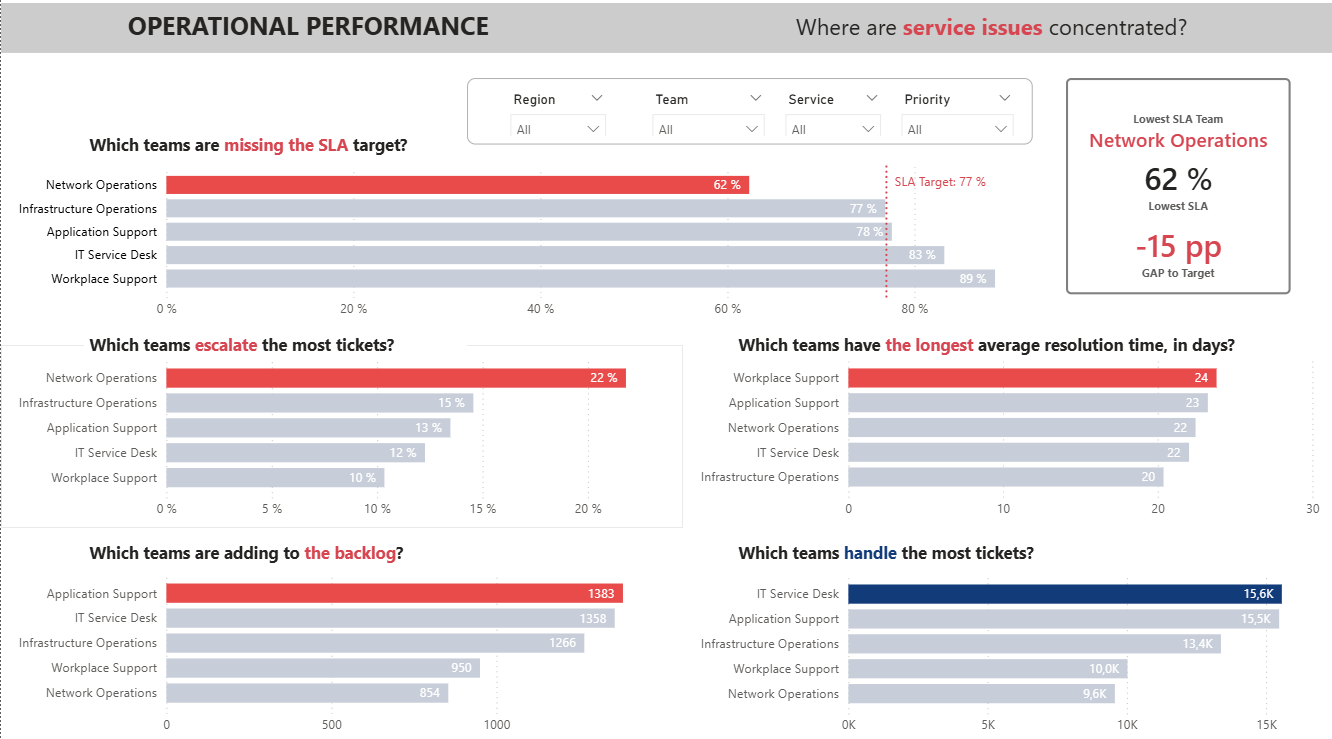

The page's visual inventory and layout, read from the dashboard file:
{"tool":"powerbi","page":{"name":"Operational Performance","canvas":[1280,720],"ordinal":1},"visuals":[{"type":"textbox","box":[0,0,1280,48],"z":0},{"type":"clusteredBarChart","fields":{"Category":["dim_team.team_name"],"Y":["Measures (2).Backlog Tickets"]},"box":[0,543.5,648,176.5],"z":0,"group":"g5"},{"type":"clusteredBarChart","fields":{"Category":["dim_team.team_name"],"Y":["Measures (2).SLA compliance"]},"box":[0,152,1008,168],"z":1000,"group":"g2"},{"type":"group","id":"g1","title":"Group 1","box":[0,320,656,192],"z":1000},{"type":"textbox","box":[80,520,448,33.6],"z":1000,"group":"g5"},{"type":"group","id":"g2","title":"Group 2","box":[0,128,1008,192],"z":2000},{"type":"group","id":"g3","title":"Group 3","box":[656,320,624,192],"z":3000},{"type":"clusteredBarChart","fields":{"Category":["dim_team.team_name"],"Y":["Measures (2).Escalation Rate"]},"box":[0,336,656,176],"z":3000,"group":"g1"},{"type":"clusteredBarChart","fields":{"Category":["dim_team.team_name"],"Y":["Measures (2).Average Resolution Time"]},"box":[656,336.7,624,175.3],"z":4000,"group":"g3"},{"type":"group","id":"g4","title":"Group 4","box":[656,520,624,200],"z":4000},{"type":"group","id":"g5","title":"Group 5","box":[0,520,648,200],"z":5000},{"type":"group","id":"g6","title":"Group 6","box":[448,64,544,64],"z":6000},{"type":"cardVisual","fields":{"Data":["Measures (2).Lowest SLA Team","Measures (2).Lowest SLA","Measures (2).SLA Gap to Target"]},"box":[1024,80,216,208],"z":9000},{"type":"textbox","box":[448,64,544,64],"z":10062,"group":"g6"},{"type":"slicer","fields":{"Values":["dim_service.service_name"]},"box":[744,72,112,48],"z":10125,"group":"g6"},{"type":"slicer","fields":{"Values":["dim_priority.priority_name"]},"box":[856,72,128,48],"z":10250,"group":"g6"},{"type":"slicer","fields":{"Values":["dim_region.region_name"]},"box":[480,72,112,48],"z":10500,"group":"g6"},{"type":"slicer","fields":{"Values":["dim_team.team_name"]},"box":[616,72,128,48],"z":11000,"group":"g6"},{"type":"textbox","box":[80,128,624,40],"z":12000,"group":"g2"},{"type":"textbox","box":[80,320,368,32],"z":13000,"group":"g1"},{"type":"textbox","box":[704,320,520,32],"z":14000,"group":"g3"},{"type":"clusteredBarChart","fields":{"Category":["dim_team.team_name"],"Y":["Measures (2).Ticket Value"]},"box":[656,544,624,176],"z":15500,"group":"g4"},{"type":"textbox","box":[704,520,440,40],"z":16000,"group":"g4"}]}

Visuals, with their boxes in screenshot pixels (x1, y1, x2, y2), scaled from the page's 1280x720 canvas onto the 1332x739 screenshot:
textbox: pyautogui.locateOnScreen(0, 0, 1331, 49)
clusteredBarChart - dim_team.team_name x Measures (2).Backlog Tickets: pyautogui.locateOnScreen(0, 558, 674, 738)
clusteredBarChart - dim_team.team_name x Measures (2).SLA compliance: pyautogui.locateOnScreen(0, 156, 1049, 328)
"Group 1" group: pyautogui.locateOnScreen(0, 328, 683, 526)
textbox: pyautogui.locateOnScreen(83, 534, 549, 568)
"Group 2" group: pyautogui.locateOnScreen(0, 131, 1049, 328)
"Group 3" group: pyautogui.locateOnScreen(683, 328, 1331, 526)
clusteredBarChart - dim_team.team_name x Measures (2).Escalation Rate: pyautogui.locateOnScreen(0, 345, 683, 526)
clusteredBarChart - dim_team.team_name x Measures (2).Average Resolution Time: pyautogui.locateOnScreen(683, 346, 1331, 526)
"Group 4" group: pyautogui.locateOnScreen(683, 534, 1331, 738)
"Group 5" group: pyautogui.locateOnScreen(0, 534, 674, 738)
"Group 6" group: pyautogui.locateOnScreen(466, 66, 1032, 131)
cardVisual - Measures (2).Lowest SLA Team x Measures (2).Lowest SLA: pyautogui.locateOnScreen(1066, 82, 1290, 296)
textbox: pyautogui.locateOnScreen(466, 66, 1032, 131)
slicer - dim_service.service_name: pyautogui.locateOnScreen(774, 74, 891, 123)
slicer - dim_priority.priority_name: pyautogui.locateOnScreen(891, 74, 1024, 123)
slicer - dim_region.region_name: pyautogui.locateOnScreen(499, 74, 616, 123)
slicer - dim_team.team_name: pyautogui.locateOnScreen(641, 74, 774, 123)
textbox: pyautogui.locateOnScreen(83, 131, 733, 172)
textbox: pyautogui.locateOnScreen(83, 328, 466, 361)
textbox: pyautogui.locateOnScreen(733, 328, 1274, 361)
clusteredBarChart - dim_team.team_name x Measures (2).Ticket Value: pyautogui.locateOnScreen(683, 558, 1331, 738)
textbox: pyautogui.locateOnScreen(733, 534, 1190, 575)
